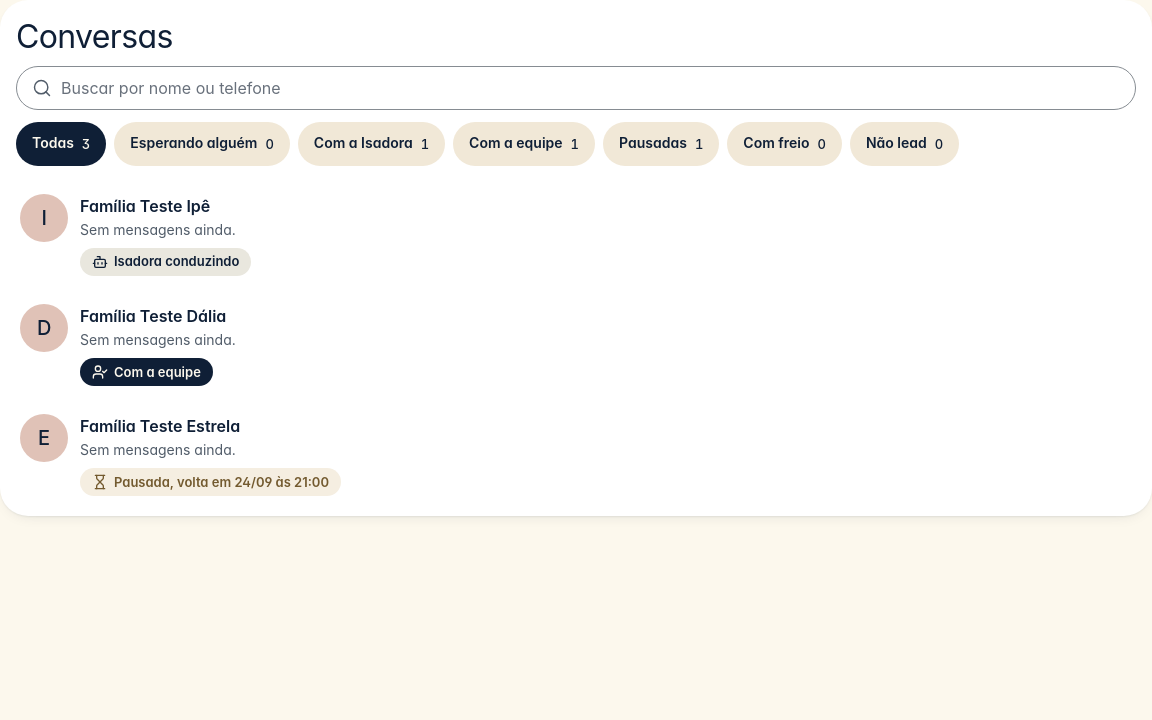
Scenario: ListaConversas (filtro por situação, C5) › filtro sem nenhuma conversa mostra o estado vazio explicando o porquê
Step 1. Click the button "Não lead 0" → click(905, 144), box [850,122,959,166]
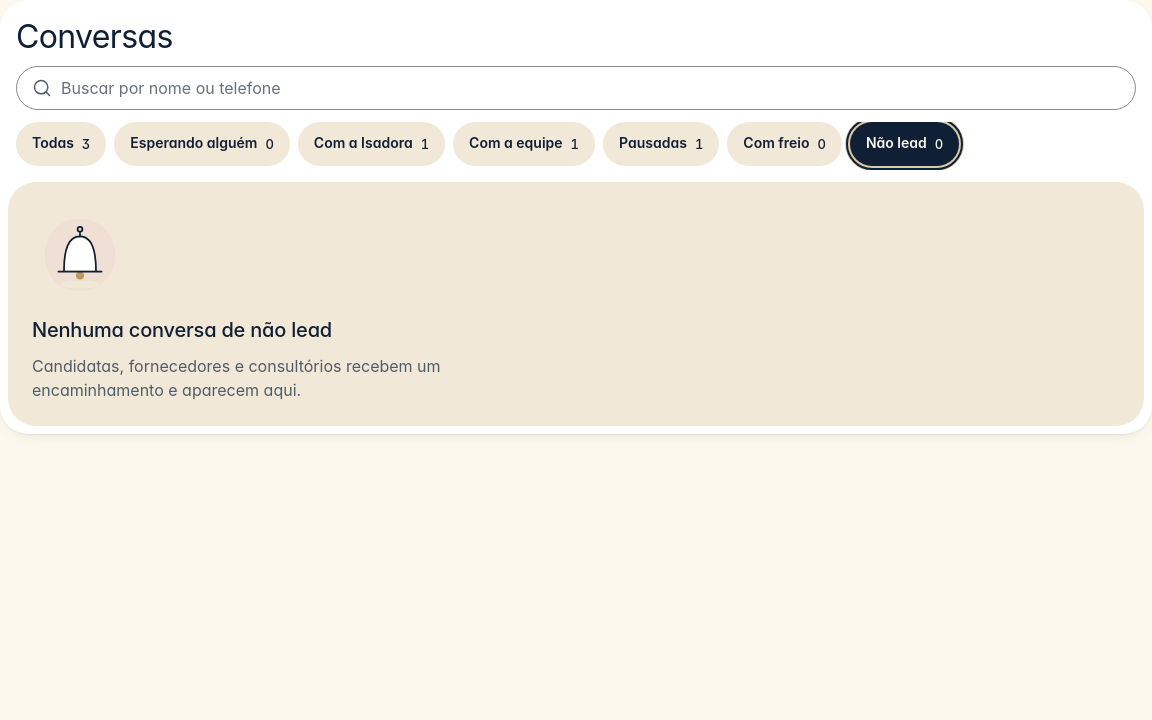
Result: the heading "Nenhuma conversa de não lead" is shown at [32,318,332,342]
